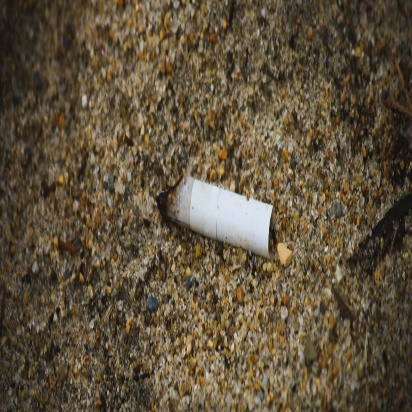cigarette: (152, 169, 289, 269)
